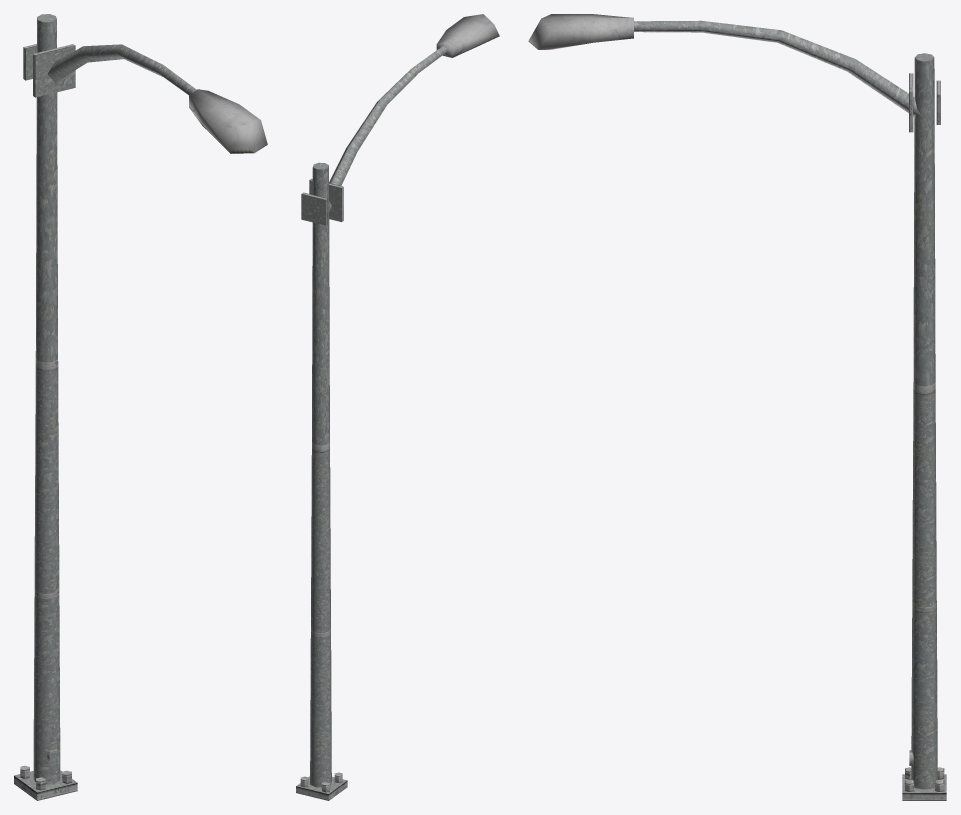
Rendered from Traffic-StreetLampB.fbx.
The picture shows the model from 3 angles, left to right: view 1: azimuth 30°, elevation 25°; view 2: azimuth 150°, elevation 25°; view 3: azimuth 270°, elevation 25°; orthographic projection. The views are drawn at different scales.
Parts seen in each view (by area): view 1: Traffic-StreetLampB; view 2: Traffic-StreetLampB; view 3: Traffic-StreetLampB.
Boxes of the visible parts, x1,y1,x2,y2 form: Traffic-StreetLampB: (14,14,267,800); Traffic-StreetLampB: (296,14,499,800); Traffic-StreetLampB: (528,14,946,800).
Size of the model in its own units: 51.68 by 961 by 471.
Materials: 1 (1 with a texture image).
